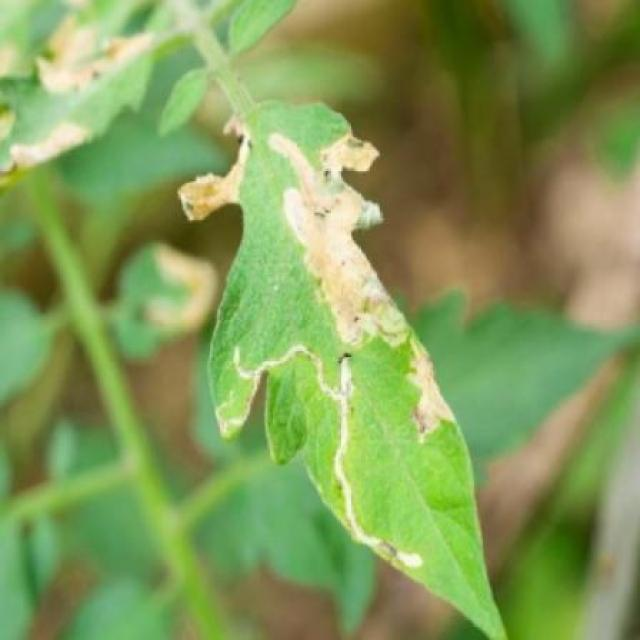Leaf Miner: (212, 92, 509, 639)
